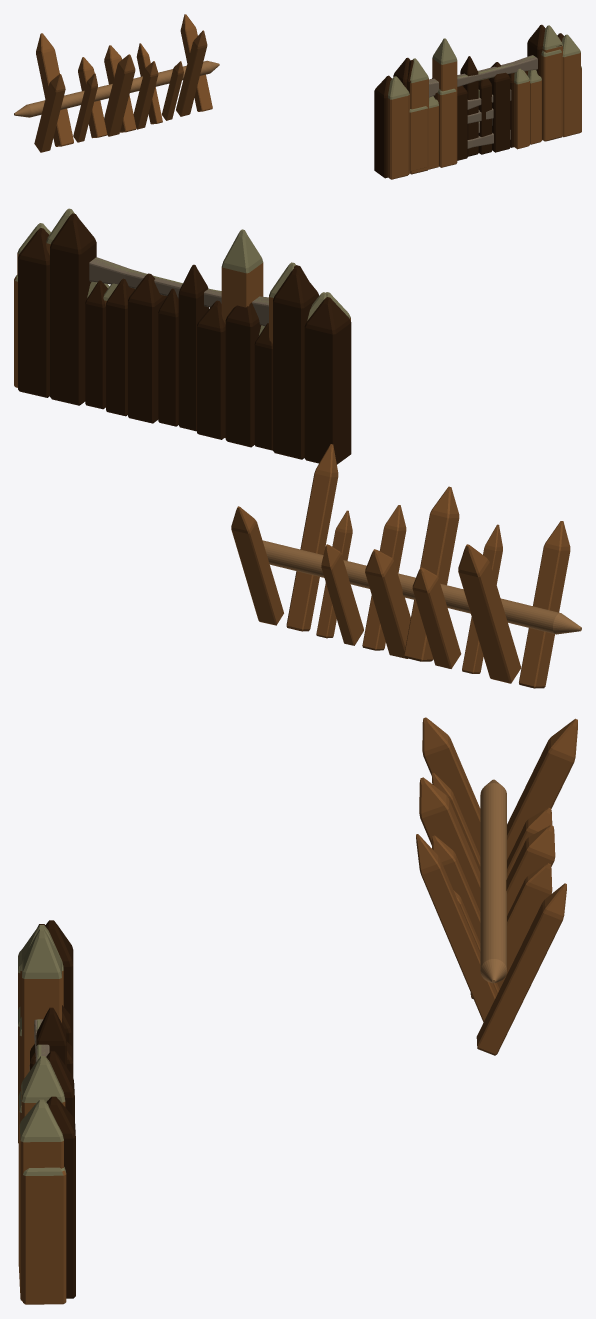
File: fence6.fbx
The picture shows the model from 3 angles, top to bottom: view 1: azimuth 30°, elevation 25°; view 2: azimuth 150°, elevation 25°; view 3: azimuth 270°, elevation 25°; orthographic projection. The views are drawn at different scales.
Visible parts, largest first — view 1: Cube.033, Cube.042, Cube.024, Cube.012, Cylinder, Cube.003, Cube.011; view 2: Cube.024, Cube.042, Cube.012, Cylinder, Cube.005; view 3: Cube.042, Cube.012, Cube.024, Cylinder, Cube.033.
Boxes of the visible parts, x1=… form: Cube.033: x1=387, y1=34, x2=580, y2=179; Cube.042: x1=34, y1=14, x2=212, y2=152; Cube.024: x1=374, y1=24, x2=563, y2=178; Cube.012: x1=394, y1=25, x2=581, y2=174; Cylinder: x1=14, y1=60, x2=219, y2=117; Cube.003: x1=429, y1=57, x2=537, y2=123; Cube.011: x1=467, y1=89, x2=511, y2=148; Cube.024: x1=18, y1=213, x2=351, y2=464; Cube.042: x1=231, y1=444, x2=570, y2=688; Cube.012: x1=14, y1=208, x2=326, y2=437; Cylinder: x1=262, y1=540, x2=581, y2=634; Cube.005: x1=89, y1=258, x2=268, y2=326; Cube.042: x1=416, y1=717, x2=577, y2=1055; Cube.012: x1=20, y1=925, x2=66, y2=1304; Cube.024: x1=30, y1=920, x2=75, y2=1298; Cylinder: x1=480, y1=779, x2=506, y2=983; Cube.033: x1=18, y1=950, x2=63, y2=1301.
Size of the model in its own units: 1151 by 305 by 620.
